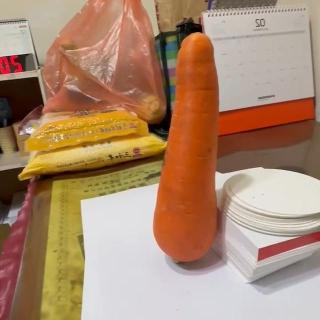carrot: (152, 30, 220, 264)
